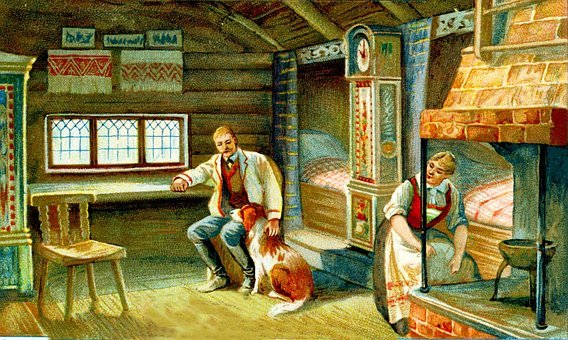chair: (17, 184, 136, 319)
dog: (225, 199, 317, 314)
person: (368, 140, 491, 328), (163, 119, 287, 295)
